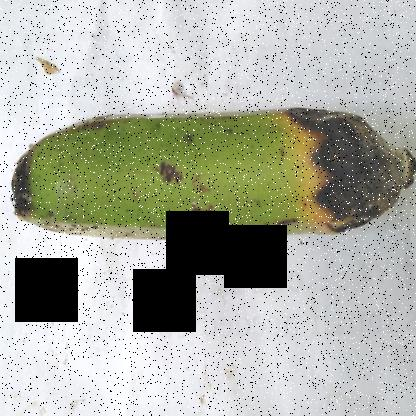rotten: (277, 97, 415, 251)
unripe: (13, 86, 289, 259)
